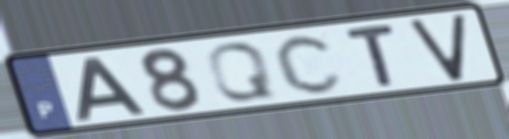8: (138, 45, 204, 113)
A: (74, 54, 150, 123)
C: (271, 32, 347, 96)
Q: (204, 40, 280, 103)
T: (341, 22, 400, 89)
V: (406, 10, 468, 84)
